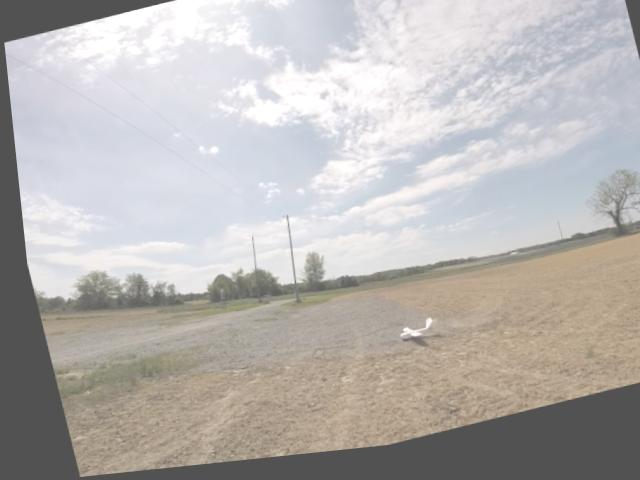plane: (388, 320, 433, 354)
